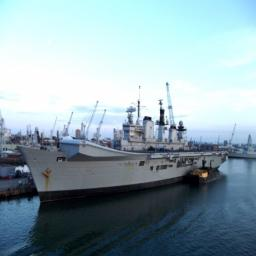Portanaves: (16, 80, 230, 209)
